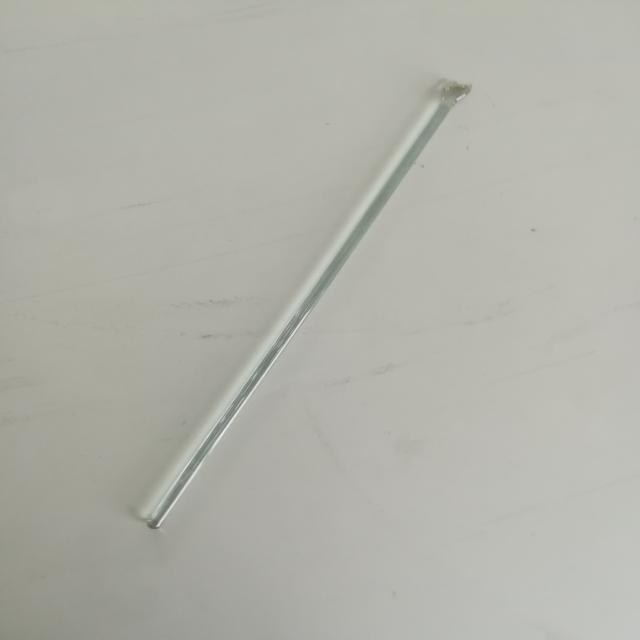Glass_Rod: (106, 23, 495, 577)
